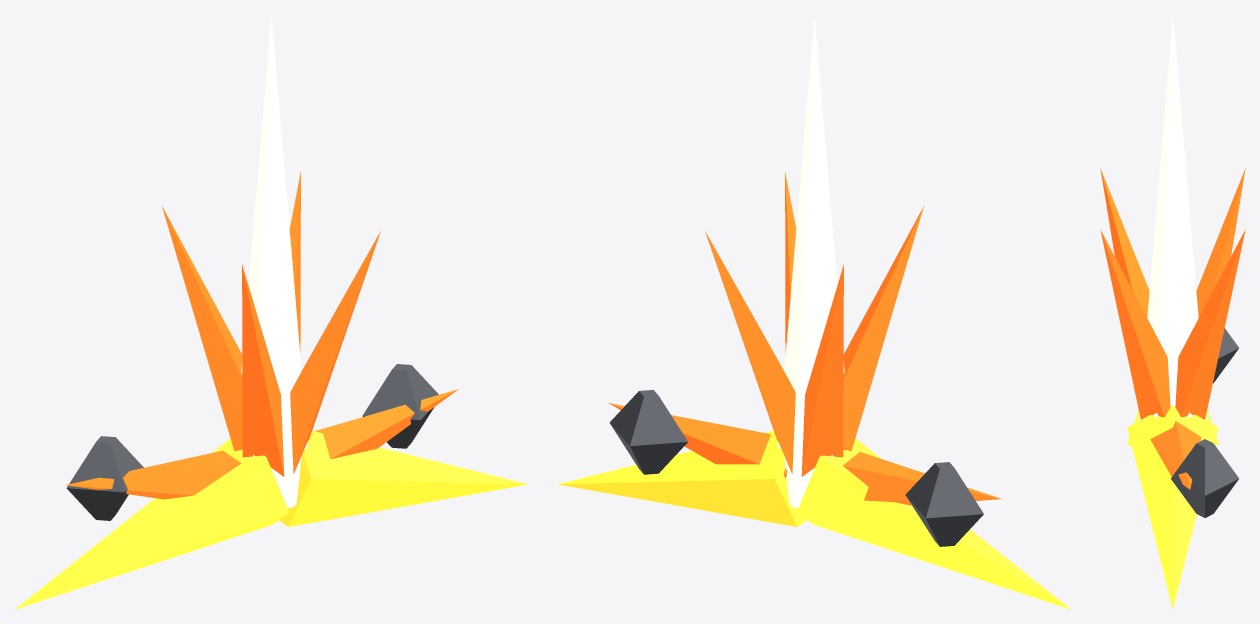
The model's file is vfx_muzzle_heavy.glb.
3 renders of one model, left to right at view 1: azimuth 30°, elevation 25°; view 2: azimuth 150°, elevation 25°; view 3: azimuth 270°, elevation 25°, orthographic. The views are drawn at different scales.
Parts seen in each view (by area): view 1: VFX_Muzzle_Heavy; view 2: VFX_Muzzle_Heavy; view 3: VFX_Muzzle_Heavy.
Boxes of the visible parts, left/top/right/bottom form: VFX_Muzzle_Heavy: left=14, top=14, right=527, bottom=609; VFX_Muzzle_Heavy: left=558, top=14, right=1071, bottom=609; VFX_Muzzle_Heavy: left=1100, top=16, right=1245, bottom=608.
Size of the model in its own units: 0.47 by 0.465 by 0.1271.
